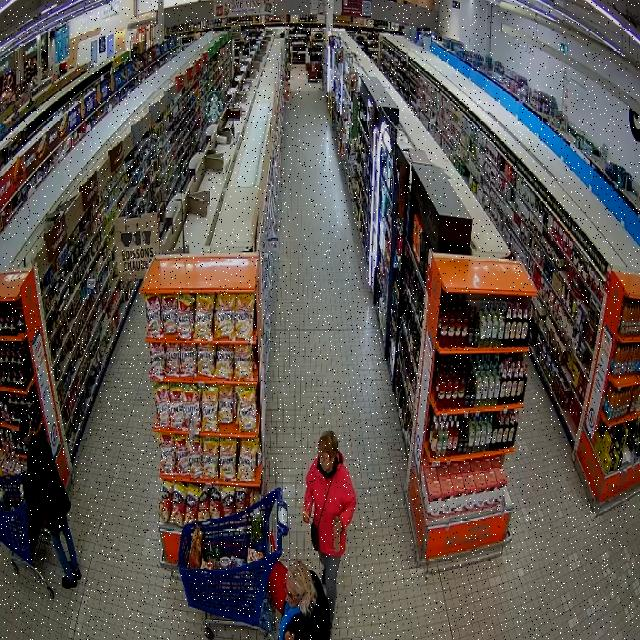article: (334, 534, 341, 553)
bags: (311, 476, 334, 551)
hands: (334, 517, 343, 532), (302, 507, 310, 523), (284, 632, 294, 639)
person: (20, 416, 81, 588), (303, 431, 356, 624), (279, 562, 317, 639)
